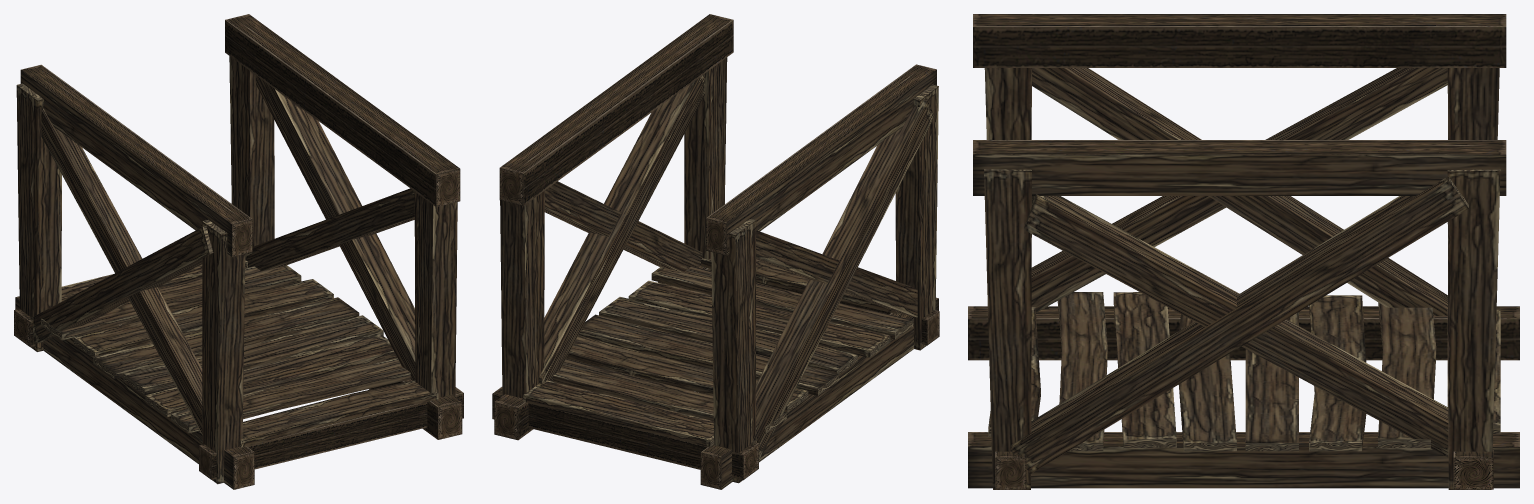
The model's file is Bridge_4X6_02.fbx.
3 views of the same model, side by side, from view 1: azimuth 30°, elevation 25°; view 2: azimuth 150°, elevation 25°; view 3: azimuth 270°, elevation 25° (orthographic). The views are drawn at different scales.
Visible parts, largest first — view 1: Bridge_4X6_Deck_02, Bridge_4X6_Side_03, Bridge_4X6_Side_04; view 2: Bridge_4X6_Side_03, Bridge_4X6_Deck_02, Bridge_4X6_Side_04; view 3: Bridge_4X6_Side_04, Bridge_4X6_Deck_02, Bridge_4X6_Side_03.
Boxes of the visible parts, box(x1,y1,x2,y2) form: Bridge_4X6_Deck_02: box(14, 260, 463, 489); Bridge_4X6_Side_03: box(16, 64, 252, 484); Bridge_4X6_Side_04: box(225, 14, 460, 397); Bridge_4X6_Side_03: box(706, 64, 938, 483); Bridge_4X6_Deck_02: box(492, 258, 939, 489); Bridge_4X6_Side_04: box(499, 14, 733, 398); Bridge_4X6_Side_04: box(973, 140, 1506, 489); Bridge_4X6_Deck_02: box(968, 292, 1519, 489); Bridge_4X6_Side_03: box(973, 14, 1506, 315).
Size of the model in its own units: 4 by 4 by 6.
